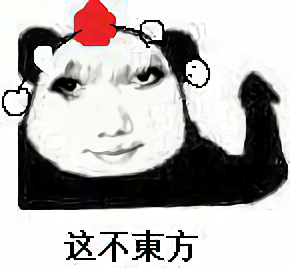dragon: (49, 65, 168, 161)
